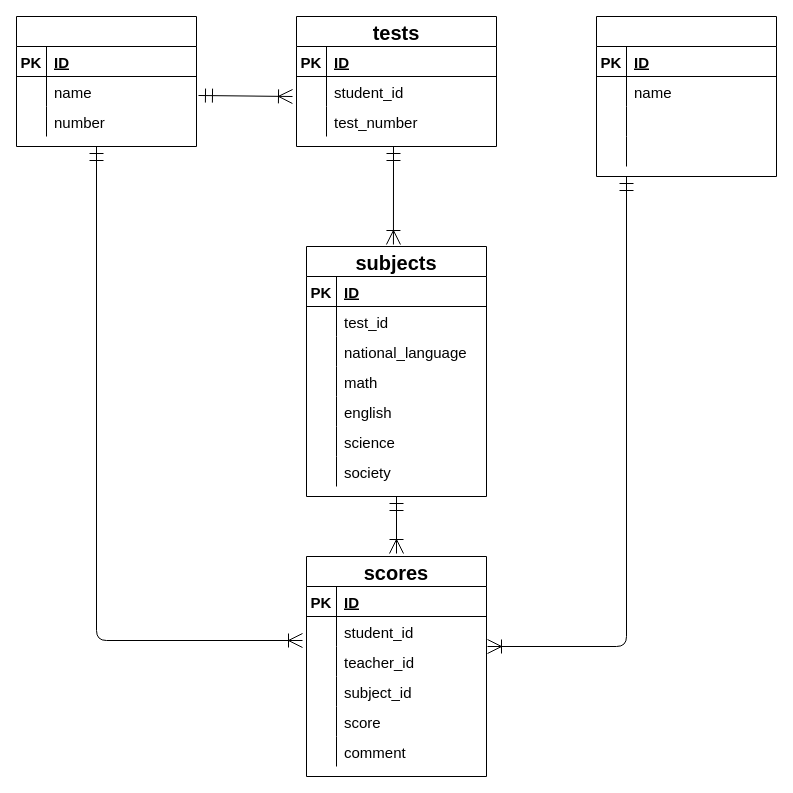
The diagram is 793 pixels wide and 793 high, and some of its shapes have lost their labels. Each missing label, with the box of its shape:
students: (16, 16, 196, 146)
teachers: (596, 16, 776, 176)
